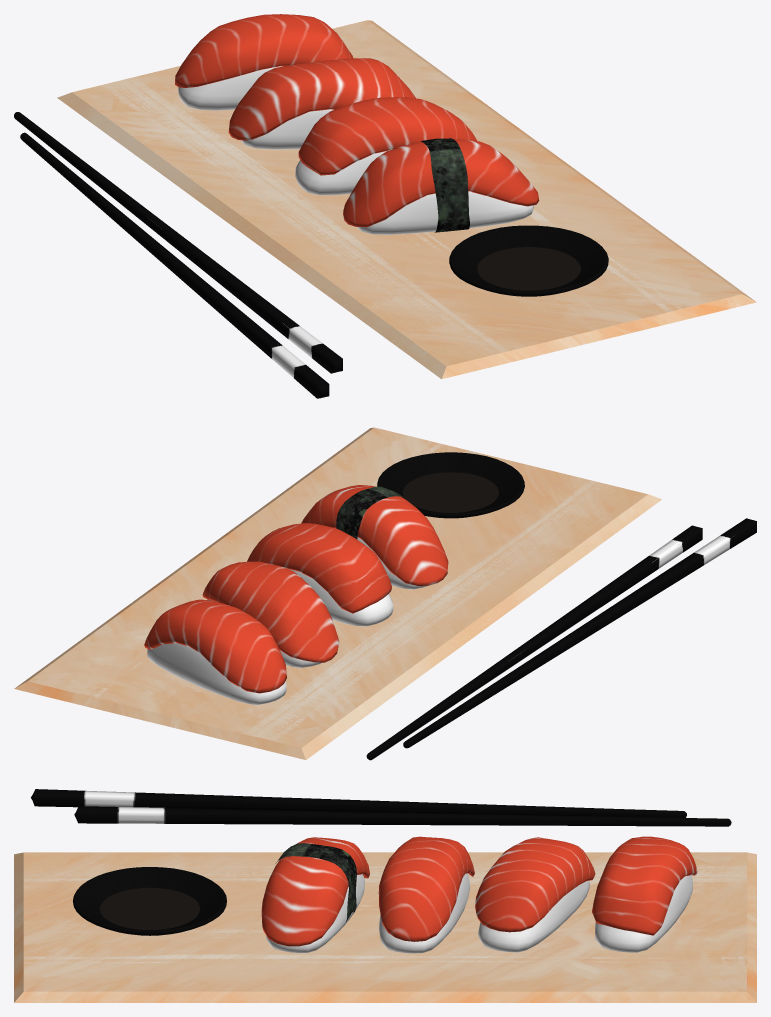
File: salmon_nigiri_draco.glb
3 renders of one model, top to bottom at view 1: azimuth 30°, elevation 25°; view 2: azimuth 150°, elevation 25°; view 3: azimuth 270°, elevation 25°, orthographic. The views are drawn at different scales.
Visible parts, largest first — view 1: defaultobject; view 2: defaultobject; view 3: defaultobject.
Boxes of the visible parts, x1,y1,x2,y2 form: defaultobject: [14, 14, 756, 398]; defaultobject: [14, 427, 756, 760]; defaultobject: [14, 789, 756, 1002].
Size of the model in its own units: 8.71 by 1.58 by 13.54.
Materials: 1 (1 with a texture image).
